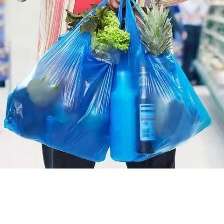plastic_bag: (0, 0, 119, 171), (105, 0, 216, 165)
